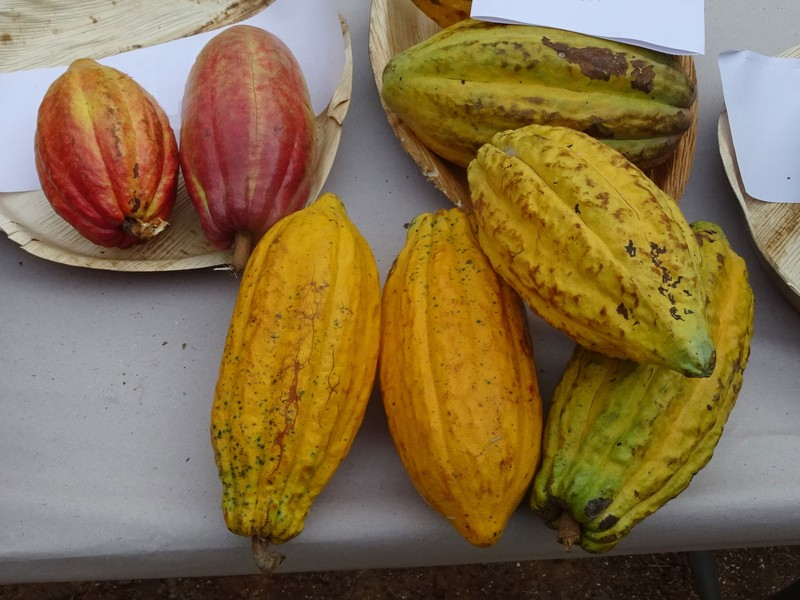Cacaopod: (466, 123, 717, 382), (209, 192, 383, 544), (179, 23, 311, 261), (32, 60, 173, 251)
